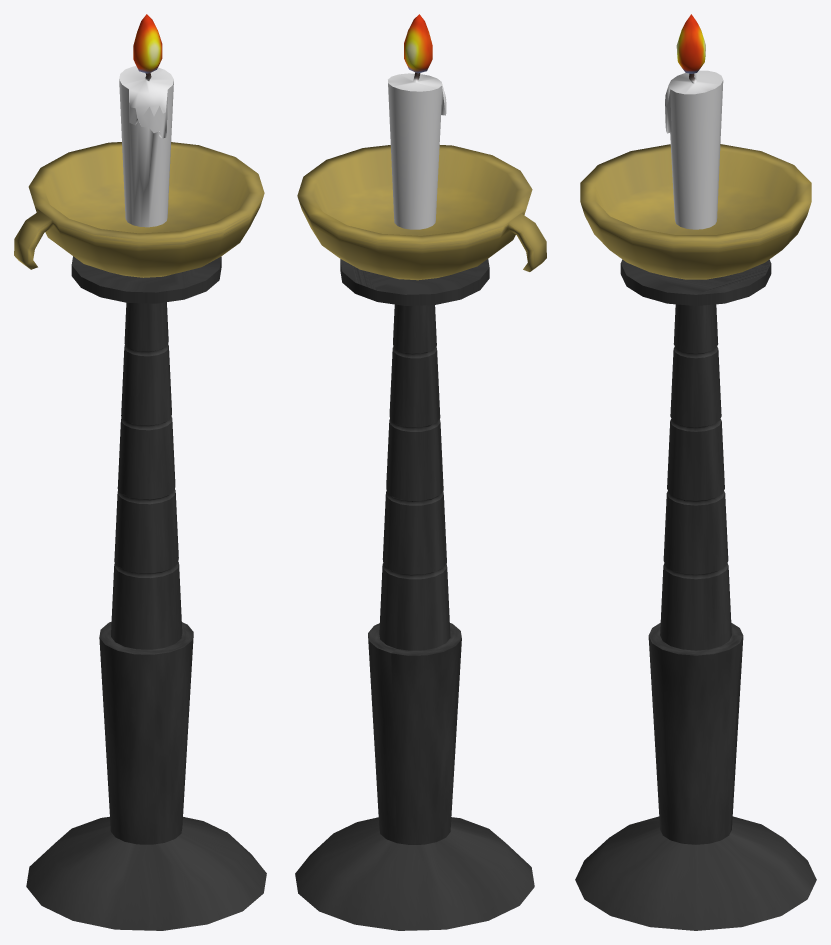
The model's file is candlestickL.obj.
3 renders of one model, left to right at view 1: azimuth 30°, elevation 25°; view 2: azimuth 150°, elevation 25°; view 3: azimuth 270°, elevation 25°, orthographic.
Parts seen in each view (by area): view 1: 円柱; view 2: 円柱; view 3: 円柱.
Part boxes in pixels (x1,y1,x2,y2): 円柱: [14, 14, 266, 930]; 円柱: [295, 14, 546, 930]; 円柱: [575, 14, 816, 930].
Size of the model in its own units: 1.03 by 3.69 by 0.9336.
4 materials, 4 textured.
